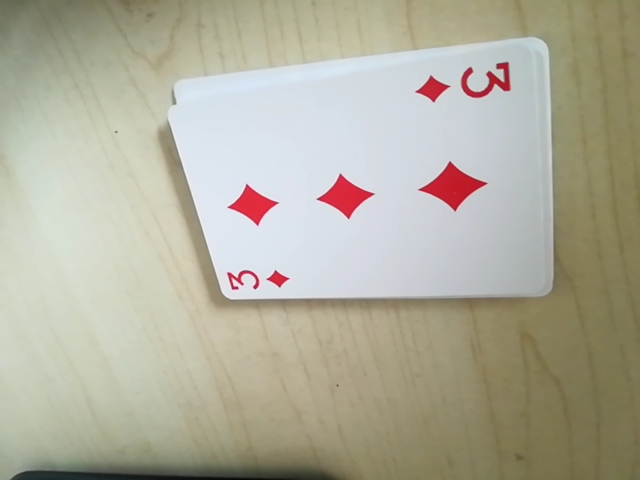fk 3: (412, 53, 519, 111), (221, 261, 292, 300)
